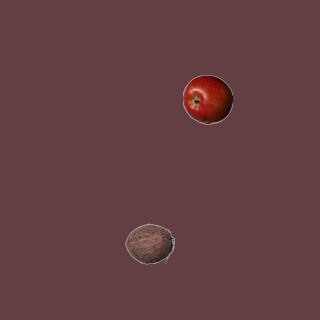Apple Braeburn: (182, 74, 232, 124)
Cocos: (124, 218, 174, 268)
